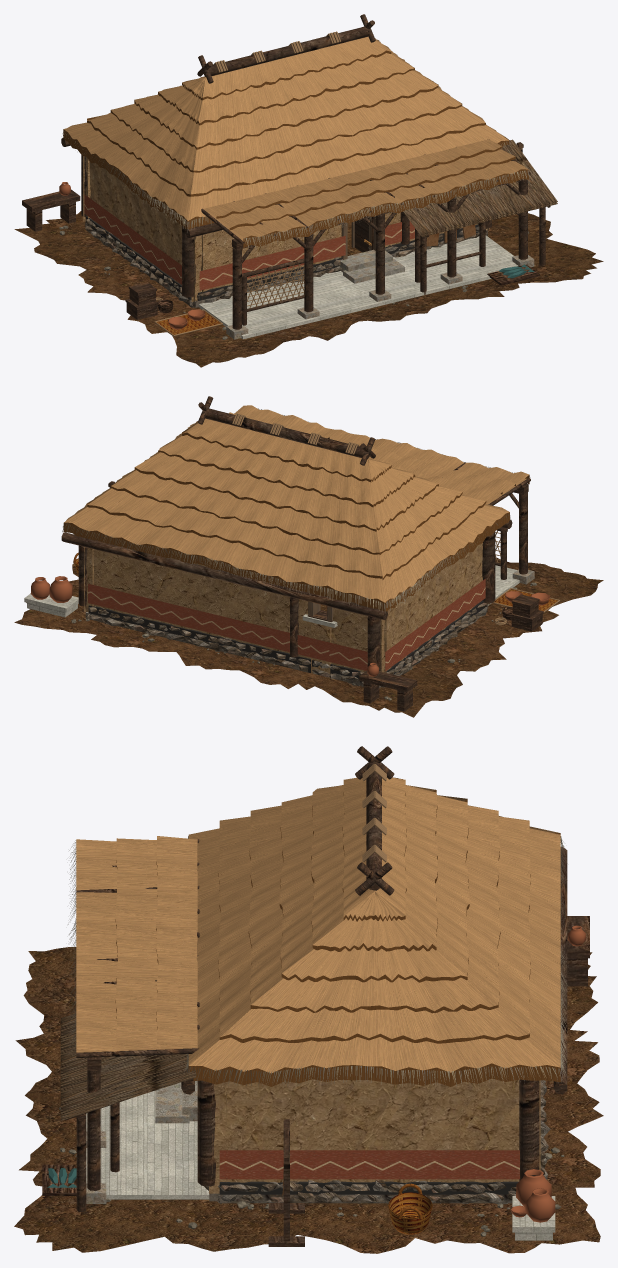
Rendered from fisher@1.glb.
3 renders of one model, top to bottom at view 1: azimuth 30°, elevation 25°; view 2: azimuth 150°, elevation 25°; view 3: azimuth 270°, elevation 25°, orthographic. The views are drawn at different scales.
Parts seen in each view (by area): view 1: part_18, part_1, part_8, part_19, part_7, part_5, part_23, part_15, part_4, part_21, part_20, part_11 (+5 smaller); view 2: part_18, part_5, part_1, part_8, part_19, part_23, part_4, part_20, part_22, part_7, part_16, part_11; view 3: part_18, part_1, part_5, part_8, part_19, part_7, part_23, part_15, part_4, part_20, part_22, part_21 (+4 smaller).
Boxes of the visible parts, bbox=[...] form: part_18: bbox=[63, 36, 528, 240]; part_1: bbox=[14, 211, 603, 367]; part_8: bbox=[22, 14, 550, 329]; part_19: bbox=[63, 50, 529, 248]; part_7: bbox=[198, 235, 517, 339]; part_5: bbox=[83, 156, 489, 301]; part_23: bbox=[84, 194, 414, 290]; part_15: bbox=[403, 139, 557, 236]; part_4: bbox=[85, 218, 487, 307]; part_21: bbox=[226, 249, 534, 339]; part_20: bbox=[62, 131, 529, 249]; part_11: bbox=[154, 31, 340, 336]; part_18: bbox=[64, 405, 529, 602]; part_5: bbox=[83, 543, 490, 677]; part_1: bbox=[14, 558, 603, 717]; part_8: bbox=[61, 396, 543, 711]; part_19: bbox=[63, 431, 529, 611]; part_23: bbox=[88, 579, 485, 670]; part_4: bbox=[85, 579, 488, 687]; part_20: bbox=[62, 408, 530, 613]; part_22: bbox=[88, 600, 486, 678]; part_7: bbox=[24, 565, 519, 627]; part_16: bbox=[30, 576, 550, 676]; part_11: bbox=[232, 413, 560, 625]; part_18: bbox=[76, 777, 560, 1073]; part_1: bbox=[14, 947, 603, 1253]; part_5: bbox=[209, 1039, 540, 1193]; part_8: bbox=[65, 746, 589, 1246]; part_19: bbox=[115, 790, 560, 1086]; part_7: bbox=[86, 1090, 555, 1240]; part_23: bbox=[219, 1150, 519, 1179]; part_15: bbox=[60, 1013, 195, 1120]; part_4: bbox=[204, 1080, 550, 1204]; part_20: bbox=[68, 836, 567, 1087]; part_22: bbox=[219, 1181, 518, 1194]; part_21: bbox=[86, 1081, 197, 1203].
Size of the model in its own units: 7.3 by 3.3 by 5.89.
24 materials, 17 textured.
